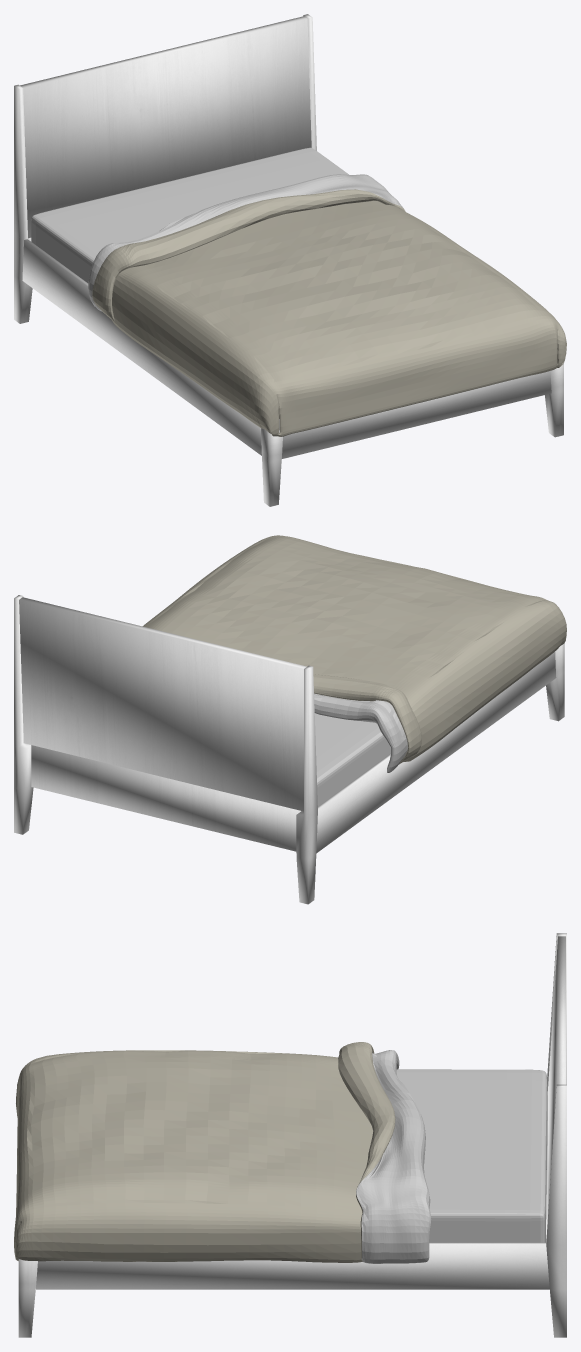
File: ik_nordli_full.glb
The picture shows the model from 3 angles, top to bottom: view 1: azimuth 30°, elevation 25°; view 2: azimuth 150°, elevation 25°; view 3: azimuth 270°, elevation 25°; orthographic projection. The views are drawn at different scales.
Parts seen in each view (by area): view 1: ik_nordli_full; view 2: ik_nordli_full; view 3: ik_nordli_full.
Boxes of the visible parts, <box> form: ik_nordli_full: <box>14,14,566,506</box>; ik_nordli_full: <box>14,535,566,904</box>; ik_nordli_full: <box>14,933,566,1337</box>.
Size of the model in its own units: 140 by 100 by 200.
3 materials, 1 textured.
